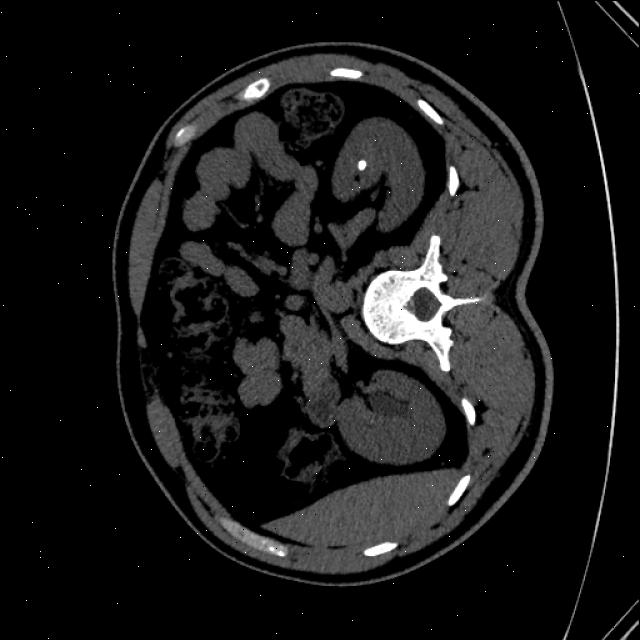kidneystone: (358, 159, 367, 170)
